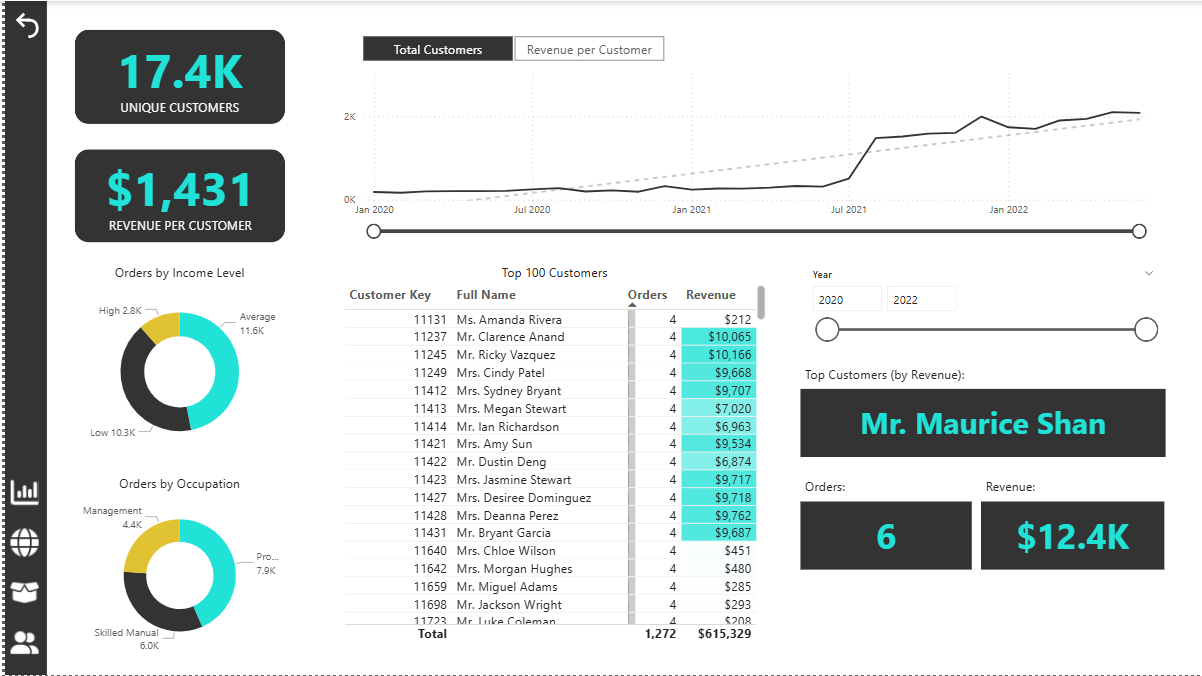

What the dashboard file says about the page in this screenshot:
{"tool":"powerbi","page":{"name":"Customer Detail","canvas":[1280,720],"ordinal":3},"visuals":[{"type":"shape","box":[0,0,45,720],"z":0},{"type":"actionButton","box":[2.8,506.5,45,38.2],"z":0,"group":"g1"},{"type":"shape","box":[74.9,30.3,224.7,100.8],"z":1000},{"type":"actionButton","box":[2.8,559.7,45,38.2],"z":1000,"group":"g1"},{"type":"shape","box":[74.9,158.5,224.7,99.4],"z":2000},{"type":"actionButton","box":[2.8,612.8,45,38.2],"z":2000,"group":"g1"},{"type":"card","fields":{"Values":["Measure Table.Total Customers"]},"box":[53.3,5.8,266.5,149.8],"z":3000},{"type":"actionButton","box":[2.8,666,45,38.2],"z":3000,"group":"g1"},{"type":"card","fields":{"Values":["Measure Table.Average Revenue per Customer"]},"box":[53.3,131.1,267.9,149.8],"z":4000},{"type":"lineChart","title":"Monthly Customers","fields":{"Category":["Calendar Lookup.Date Hierarchy.Start of Year","Calendar Lookup.Date Hierarchy.Start of Month","Calendar Lookup.Date Hierarchy.Start of Week","Calendar Lookup.Date Hierarchy.Date"],"Y":["Measure Table.Total Customers"]},"box":[357.1,65.4,880.4,192.2],"z":5000},{"type":"donutChart","title":"Orders by Income Level","fields":{"Category":["Customer Lookup.Income Level"],"Y":["Measure Table.Total Orders"]},"box":[74.3,281.4,224.3,212.9],"z":6000},{"type":"donutChart","title":"Orders by Occupation","fields":{"Category":["Customer Lookup.Occupation"],"Y":["Measure Table.Total Orders"]},"box":[74.3,505.7,224.3,197.1],"z":7000},{"type":"tableEx","title":"Top 100 Customers","fields":{"Values":["Customer Lookup.CustomerKey","Customer Lookup.Full Name","Measure Table.Total Orders","Measure Table.Total Revenue"]},"box":[357.1,281.4,460,408.6],"z":8000},{"type":"card","fields":{"Values":["Min(Customer Lookup.Full Name)"]},"box":[848.6,414.6,390,72.9],"z":9000},{"type":"card","fields":{"Values":["Measure Table.Total Orders"]},"box":[848.6,535.3,182.9,72.9],"z":10000},{"type":"card","fields":{"Values":["Measure Table.Total Revenue"]},"box":[1042.9,535.3,195.7,72.9],"z":11000},{"type":"textbox","box":[848.6,384.6,182.9,30],"z":12000},{"type":"textbox","box":[848.6,504.6,182.9,30],"z":13000},{"type":"textbox","box":[1042.9,504.6,182.9,30],"z":14000},{"type":"slicer","fields":{"Values":["Calendar Lookup.Year"]},"box":[848.6,281.4,390,95.7],"z":15000},{"type":"actionButton","box":[5.5,1.4,36.8,47.7],"z":16000},{"type":"group","id":"g1","title":"Navigation Buttons","box":[2.8,506.5,45,197.6],"z":17000},{"type":"slicer","fields":{"Values":["Customer Metric Selection.Customer Metric Selection"]},"box":[357.1,31.3,370.7,34.1],"z":17501}]}

Visuals, with their boxes on the page's 1280x720 design canvas (x1, y1, x2, y2). These are canvas units, not pixel positions in the 1202x676 screenshot, which may show the page scaled, cropped or inside an application window:
shape: bbox=[0, 0, 45, 720]
actionButton: bbox=[3, 506, 48, 545]
shape: bbox=[75, 30, 300, 131]
actionButton: bbox=[3, 560, 48, 598]
shape: bbox=[75, 158, 300, 258]
actionButton: bbox=[3, 613, 48, 651]
card - Measure Table.Total Customers: bbox=[53, 6, 320, 156]
actionButton: bbox=[3, 666, 48, 704]
card - Measure Table.Average Revenue per Customer: bbox=[53, 131, 321, 281]
"Monthly Customers" lineChart: bbox=[357, 65, 1238, 258]
"Orders by Income Level" donutChart: bbox=[74, 281, 299, 494]
"Orders by Occupation" donutChart: bbox=[74, 506, 299, 703]
"Top 100 Customers" tableEx: bbox=[357, 281, 817, 690]
card - Min(Customer Lookup.Full Name): bbox=[849, 415, 1239, 488]
card - Measure Table.Total Orders: bbox=[849, 535, 1032, 608]
card - Measure Table.Total Revenue: bbox=[1043, 535, 1239, 608]
textbox: bbox=[849, 385, 1032, 415]
textbox: bbox=[849, 505, 1032, 535]
textbox: bbox=[1043, 505, 1226, 535]
slicer - Calendar Lookup.Year: bbox=[849, 281, 1239, 377]
actionButton: bbox=[6, 1, 42, 49]
"Navigation Buttons" group: bbox=[3, 506, 48, 704]
slicer - Customer Metric Selection.Customer Metric Selection: bbox=[357, 31, 728, 65]
